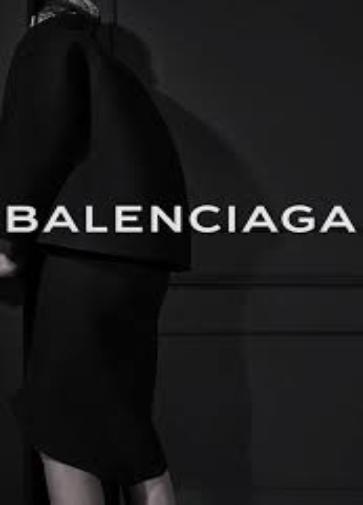BALENCIAGA: (2, 201, 360, 236)
